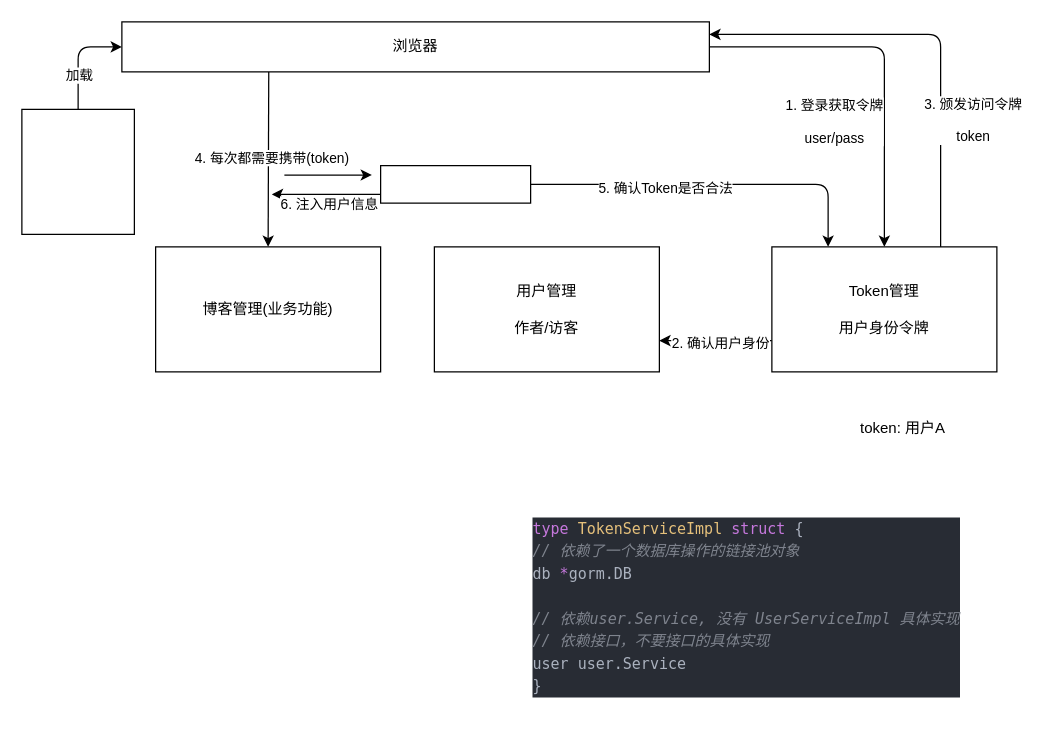
This 1043x744 diagram has some shape labels left out. Here are the shapes that lost their labels. From the top down, the box of each, then its label:
(21, 108, 134, 234): UI界面
(379, 164, 531, 203): 认证中间件
